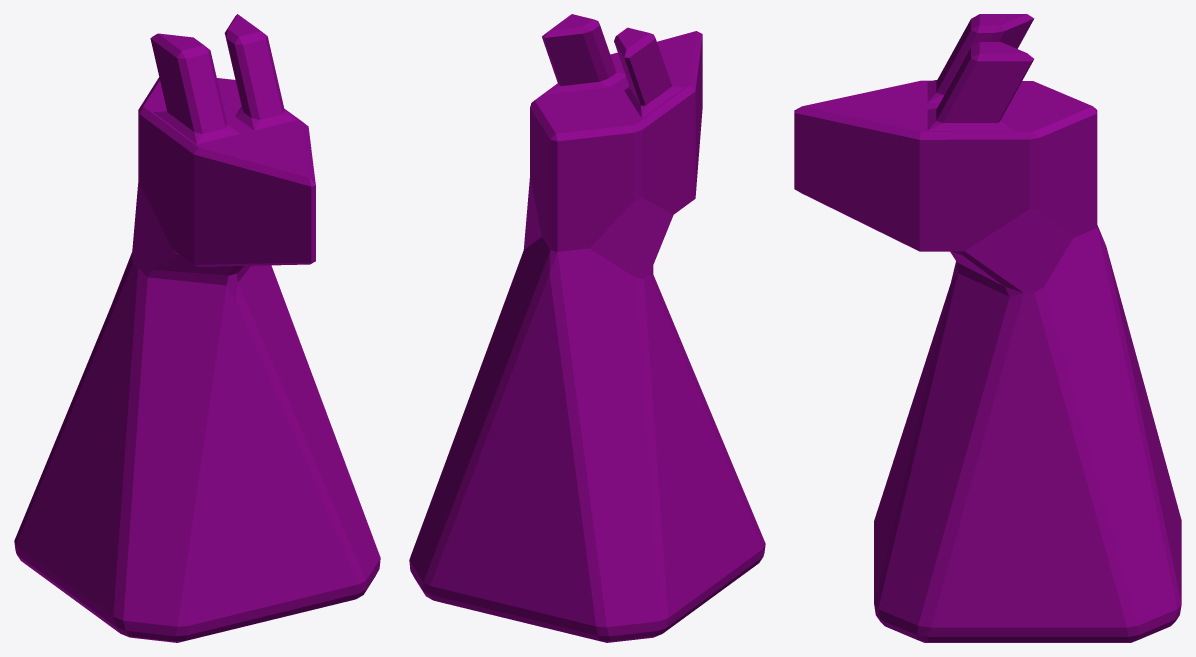
Rendered from knight.glb.
3 renders of one model, left to right at view 1: azimuth 30°, elevation 25°; view 2: azimuth 150°, elevation 25°; view 3: azimuth 270°, elevation 25°, orthographic. The views are drawn at different scales.
Visible parts, largest first — view 1: Cube; view 2: Cube; view 3: Cube.
Boxes of the visible parts, <box> form: Cube: <box>14,14,380,642</box>; Cube: <box>409,14,765,642</box>; Cube: <box>794,14,1181,642</box>.
Bounding box in the file's own units: 0.767 × 1.52 × 0.9668.
